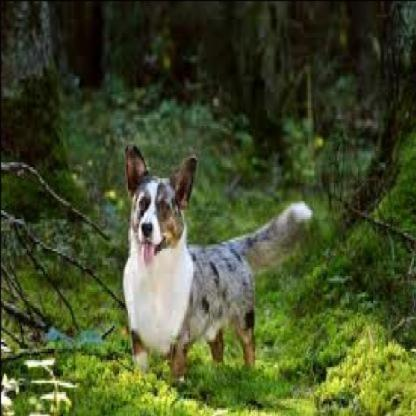dog: (121, 144, 314, 386)
